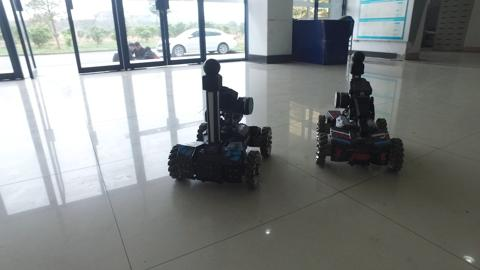car: (156, 21, 239, 56)
chariot: (164, 54, 279, 193), (305, 45, 419, 177)
